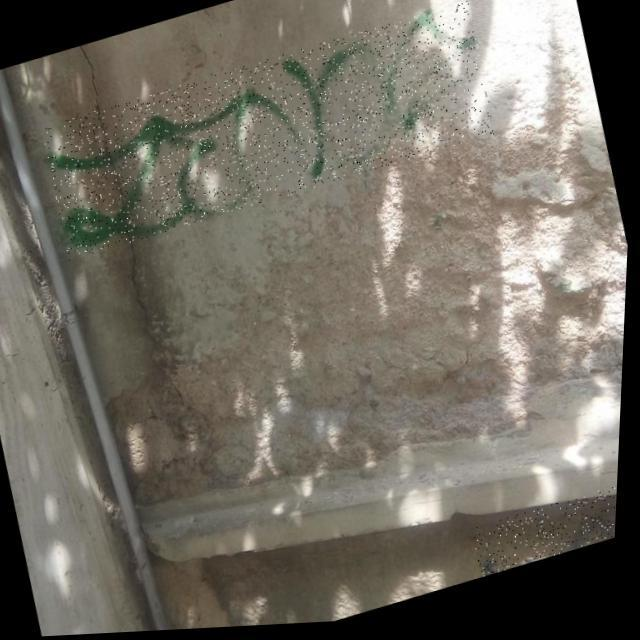-: (38, 3, 502, 263), (474, 483, 622, 583)
